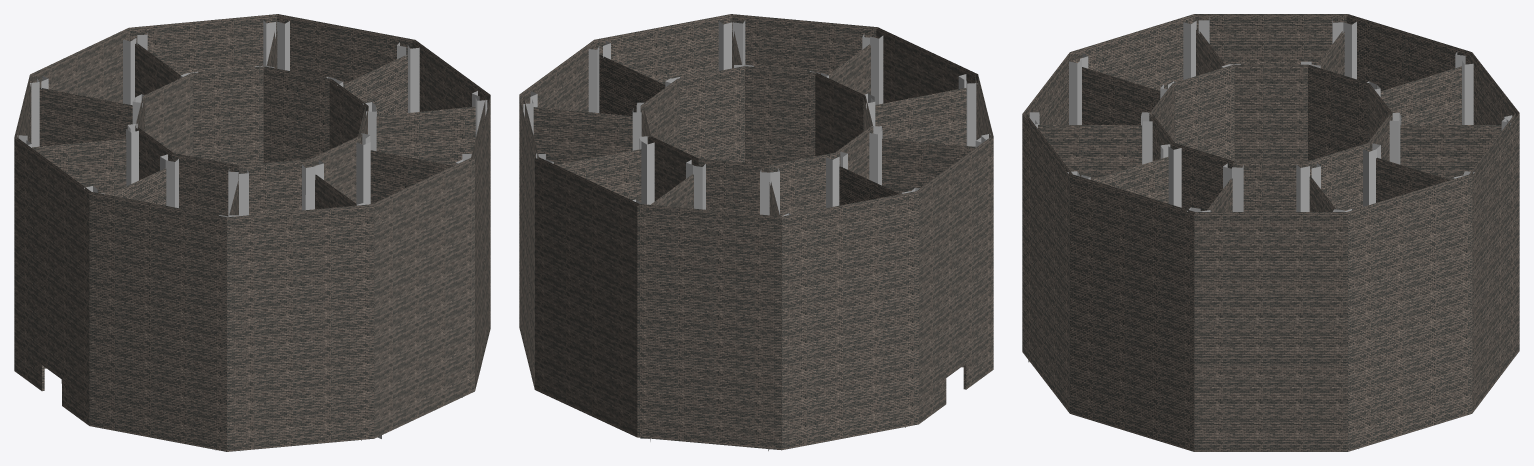
The model's file is FieldWall.obj.
3 views of the same model, side by side, from view 1: azimuth 30°, elevation 25°; view 2: azimuth 150°, elevation 25°; view 3: azimuth 270°, elevation 25° (orthographic). The views are drawn at different scales.
Parts seen in each view (by area): view 1: Wall, Wall_2, Pillar; view 2: Wall, Wall_2, Pillar; view 3: Wall, Wall_2, Pillar.
Part boxes in pixels (x1=…): Wall: x1=14, y1=14, x2=490, y2=451; Wall_2: x1=32, y1=31, x2=475, y2=368; Pillar: x1=17, y1=20, x2=487, y2=451; Wall: x1=519, y1=14, x2=993, y2=450; Wall_2: x1=533, y1=31, x2=975, y2=367; Pillar: x1=523, y1=20, x2=990, y2=451; Wall: x1=1022, y1=14, x2=1519, y2=451; Wall_2: x1=1038, y1=27, x2=1501, y2=211; Pillar: x1=1028, y1=17, x2=1512, y2=362.
Size of the model in its own units: 744 by 424 by 782.
